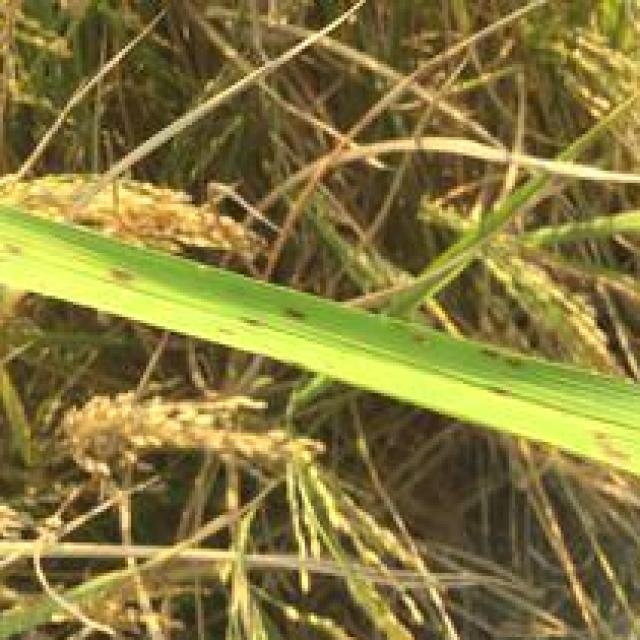Brown_Spot: (472, 338, 540, 402), (582, 426, 637, 466), (0, 231, 31, 265), (106, 258, 152, 280), (286, 298, 320, 320)
